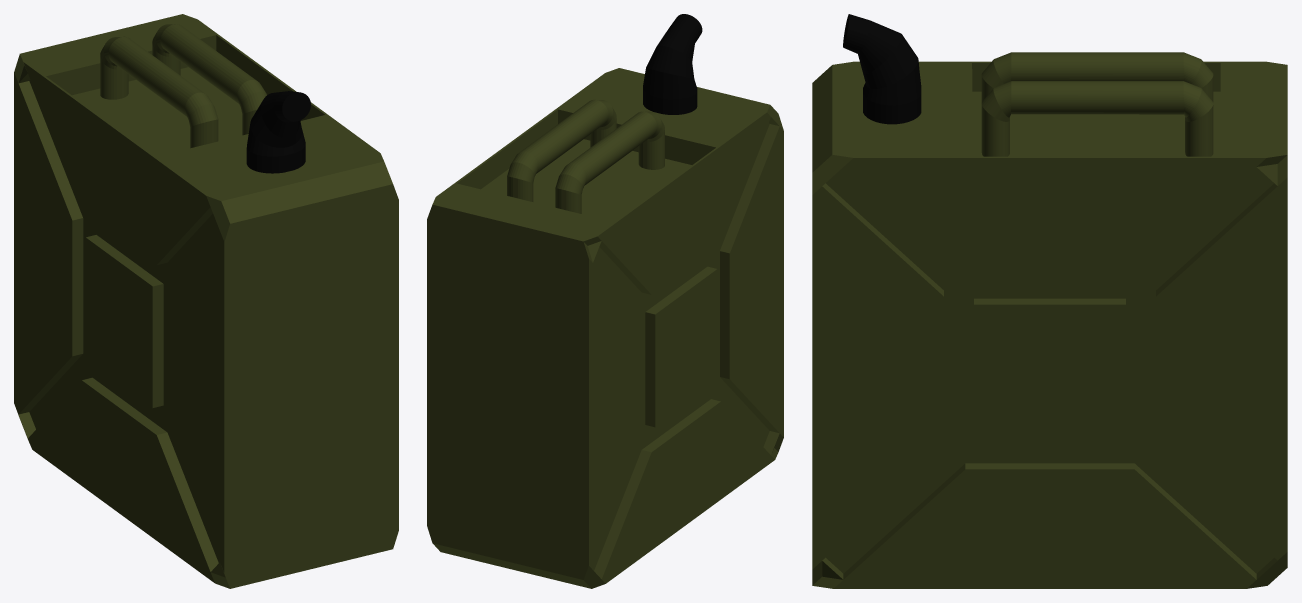
The model's file is Gas_tank.fbx.
3 renders of one model, left to right at view 1: azimuth 30°, elevation 25°; view 2: azimuth 150°, elevation 25°; view 3: azimuth 270°, elevation 25°, orthographic. The views are drawn at different scales.
Parts seen in each view (by area): view 1: Body; view 2: Body; view 3: Body.
Boxes of the visible parts, <box> form: Body: <box>14,14,398,588</box>; Body: <box>427,14,783,588</box>; Body: <box>812,14,1287,588</box>.
Size of the model in its own units: 1 by 2.54 by 2.09.
